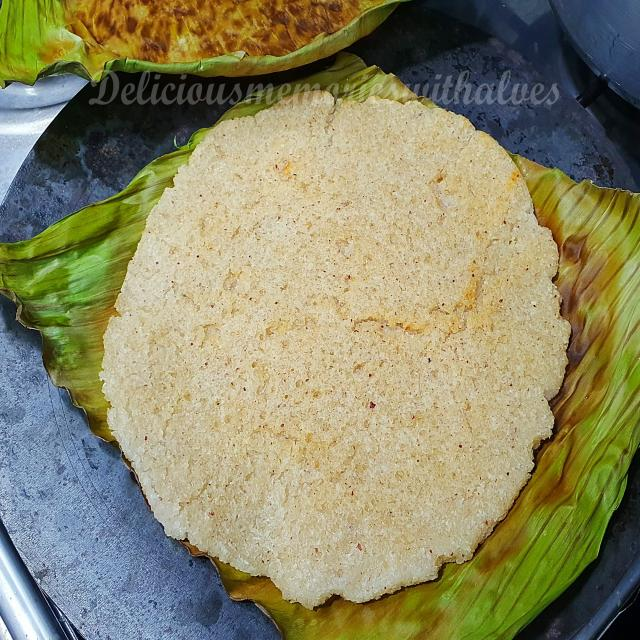ROTI: (100, 91, 569, 606)
